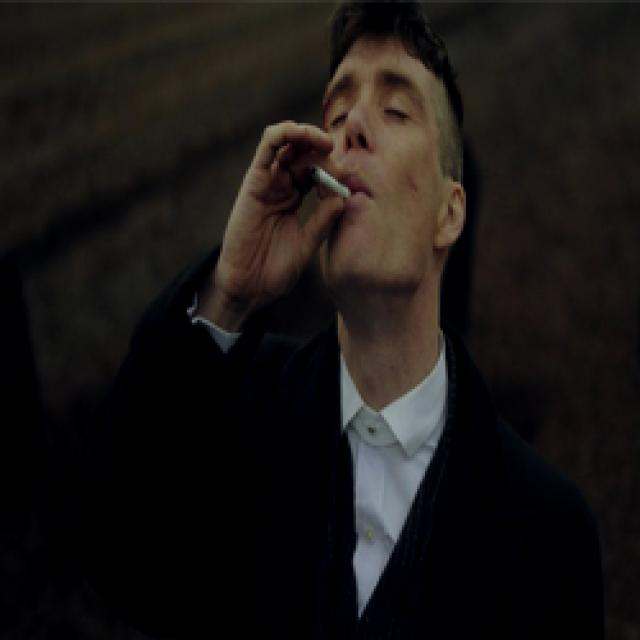Smooking: (300, 151, 360, 212)
